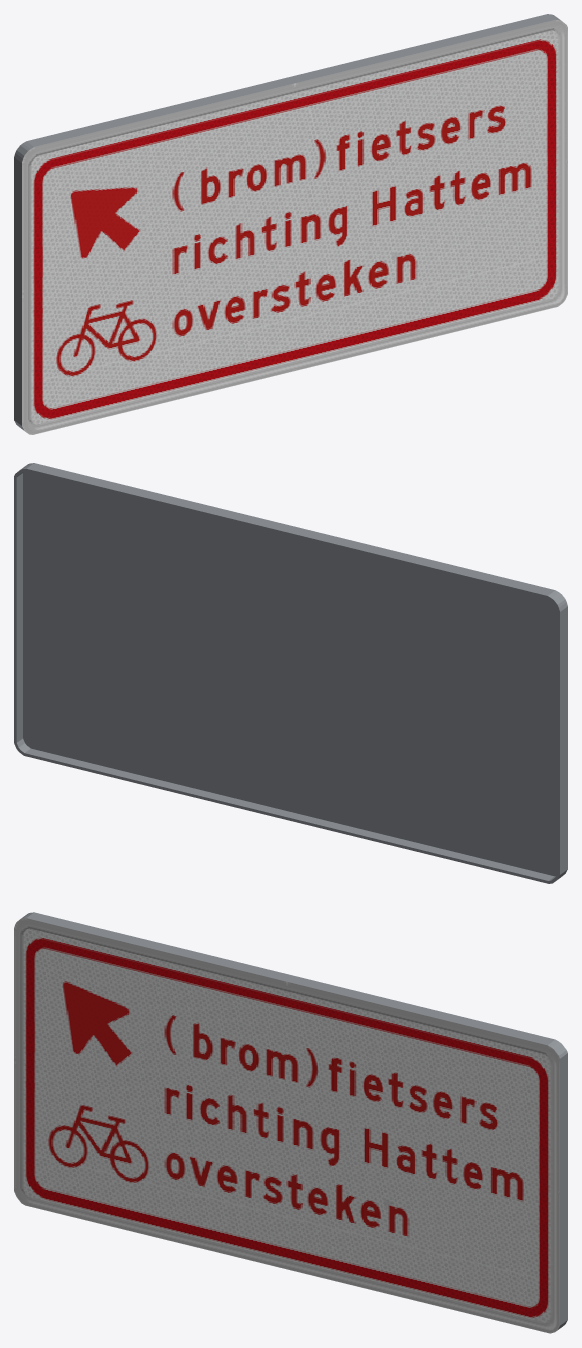
The picture shows the model from 3 angles, top to bottom: view 1: azimuth 30°, elevation 25°; view 2: azimuth 150°, elevation 25°; view 3: azimuth 330°, elevation 25°; orthographic projection.
Parts seen in each view (by area): view 1: cat_82bdabed3bd93c3d; view 2: cat_82bdabed3bd93c3d; view 3: cat_82bdabed3bd93c3d.
Boxes of the visible parts, x1,y1,x2,y2 form: cat_82bdabed3bd93c3d: (14,14,567,434); cat_82bdabed3bd93c3d: (14,463,567,883); cat_82bdabed3bd93c3d: (14,912,567,1333).
Bounding box in the file's own units: 0.6 × 0.015 × 0.3021.
Materials: 2 (1 with a texture image).
